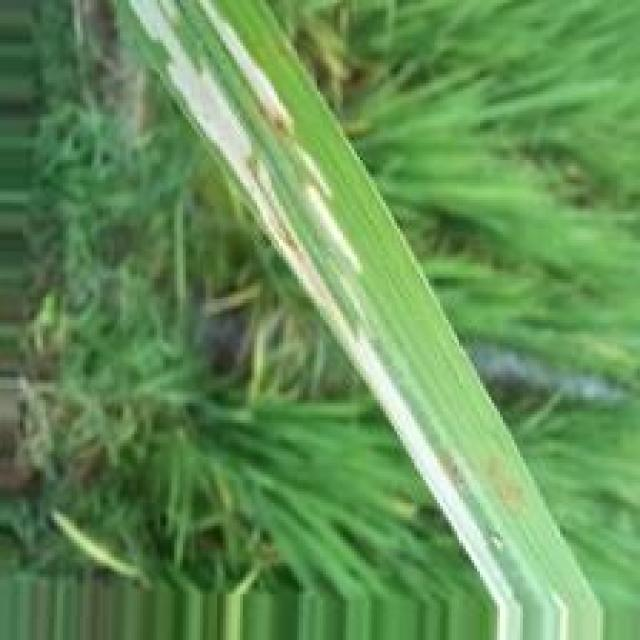Rice_Hispa: (127, 0, 526, 606)
